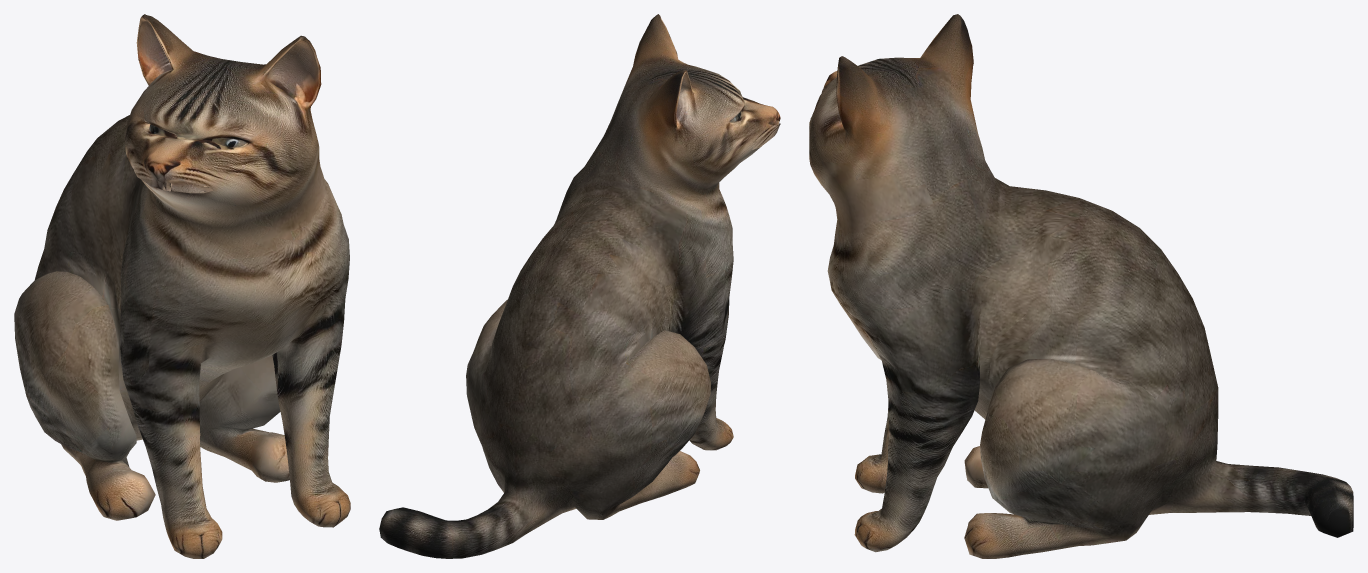
File: cat.glb
3 views of the same model, side by side, from view 1: azimuth 30°, elevation 25°; view 2: azimuth 150°, elevation 25°; view 3: azimuth 270°, elevation 25° (orthographic). The views are drawn at different scales.
Bounding box in the file's own units: 0.5448 × 0.9639 × 1.
1 material, 1 textured.
